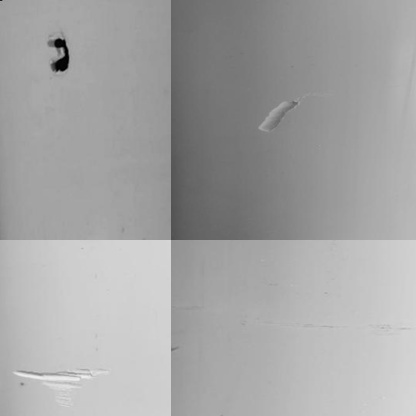kongdong: (41, 34, 72, 76)
sunshang: (12, 363, 113, 413), (258, 95, 296, 140)
